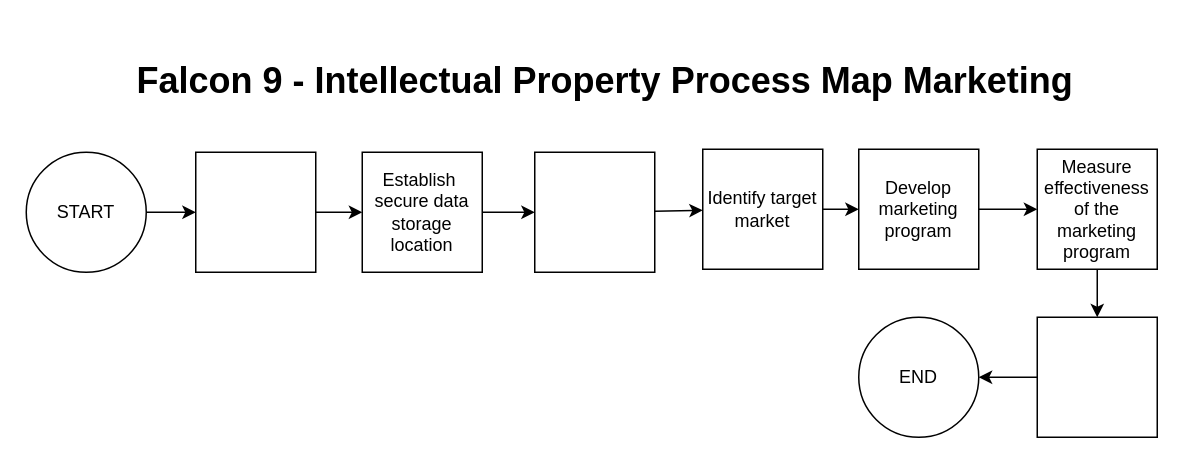
Image size: 1184x464. Some labels were removed from this diagram. Each missing label, with the box of its shape:
Constant adjustments to program based on Data: (1036, 316, 1157, 437)
Identify responsible team members for project: (194, 151, 316, 272)
User access review by the Information Security Team: (533, 151, 655, 272)
